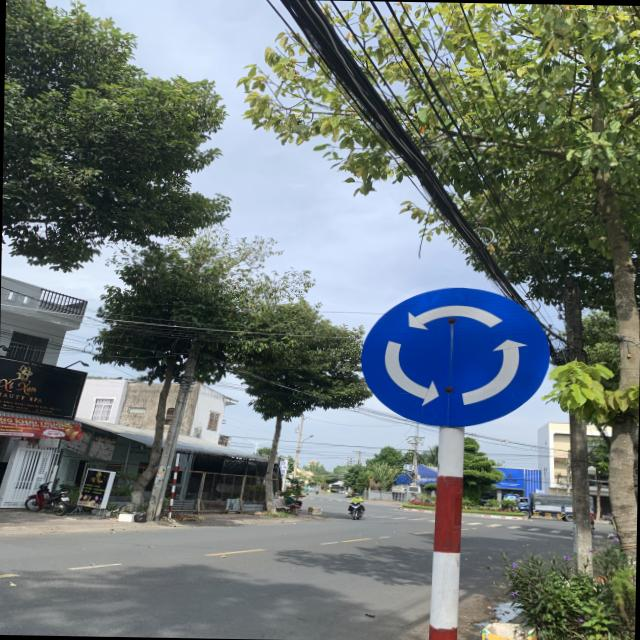Xe_Bus: (359, 284, 555, 430)
